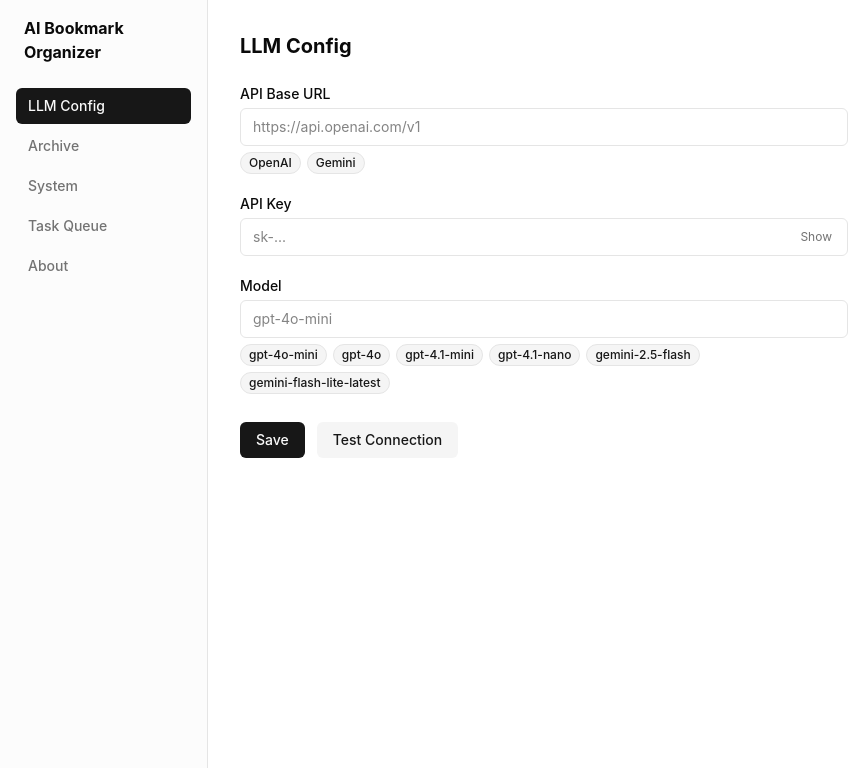
Test: Options Page › shows validation error for invalid URL
Step 1. Type "not-a-url" into the field labelled "API Base URL" → {"x": 544, "y": 127}, box x1=240 y1=108 x2=848 y2=146
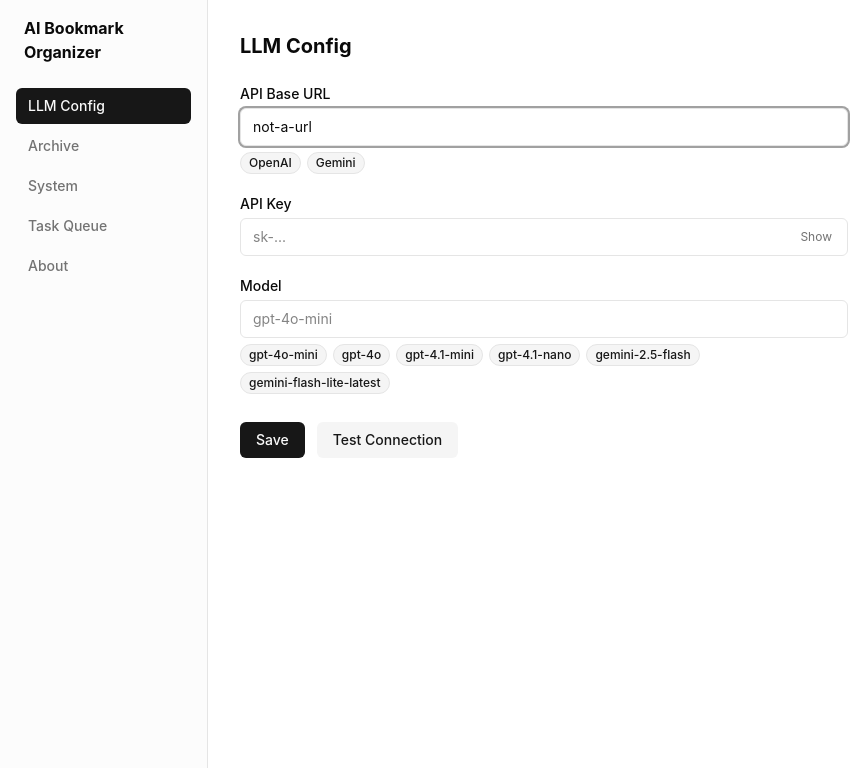
Step 2. Type "sk-test" into the password field labelled "API Key" → {"x": 544, "y": 237}, box x1=240 y1=218 x2=848 y2=256
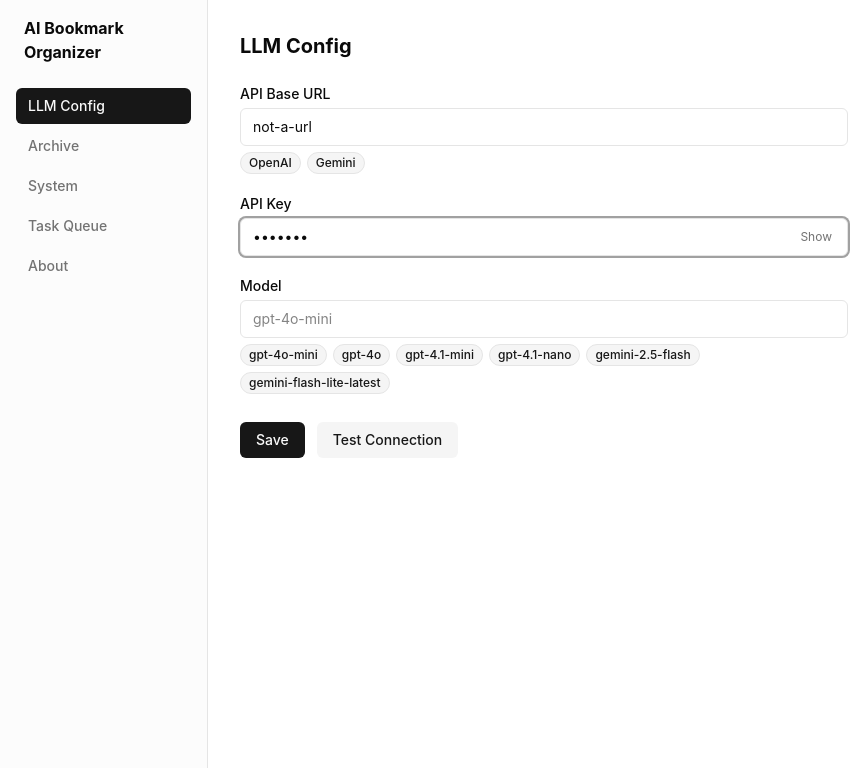
Step 3. Type "gpt-4o" into the field labelled "Model" → {"x": 544, "y": 319}, box x1=240 y1=300 x2=848 y2=338
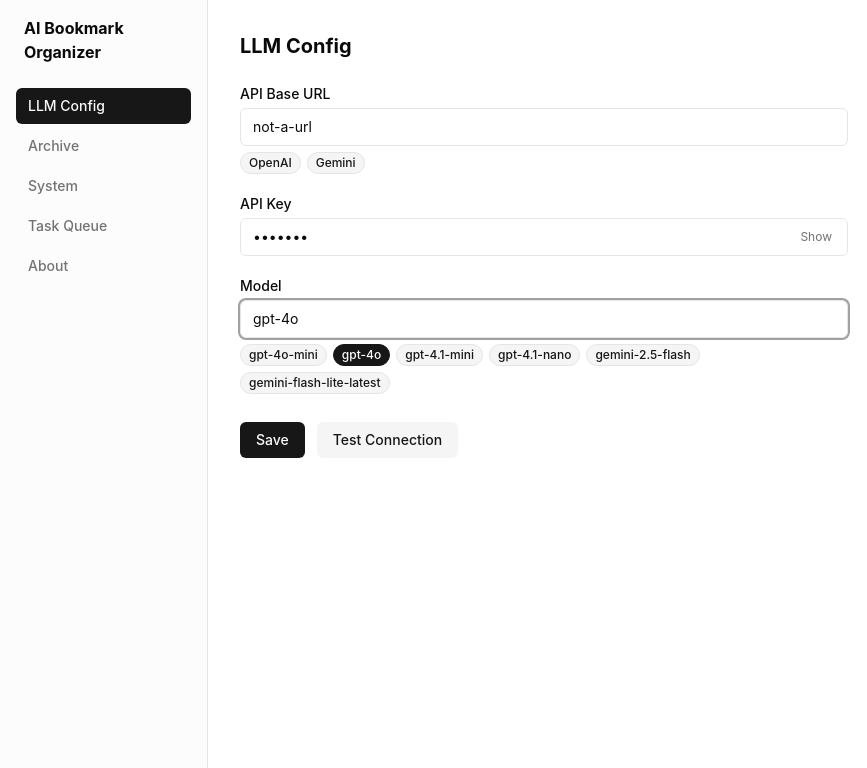
Step 4. Click the button "Save" → {"x": 272, "y": 440}, box x1=240 y1=422 x2=305 y2=458
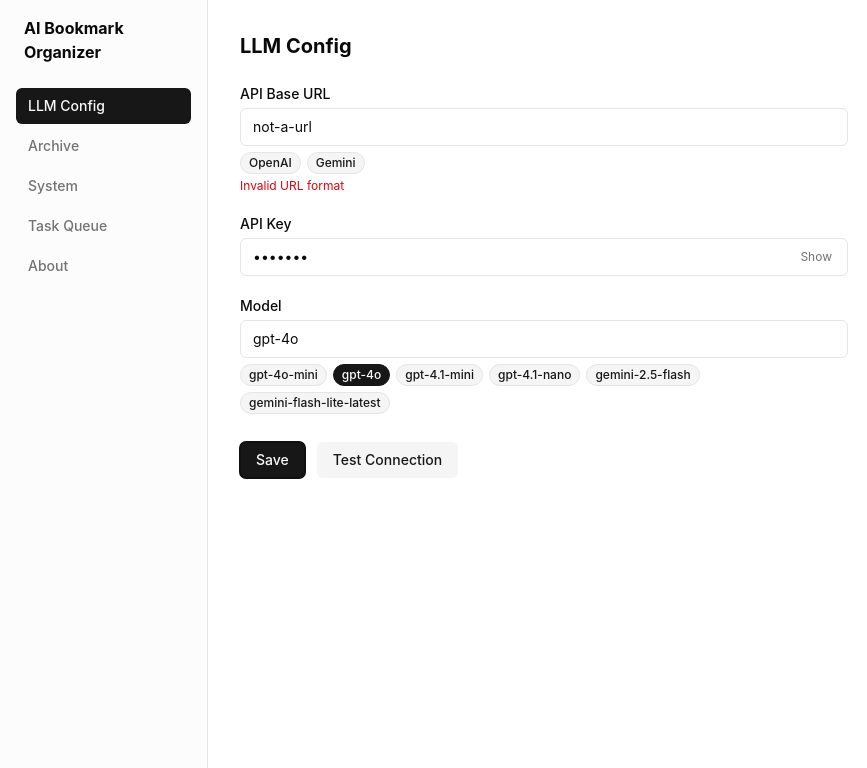
Expected: the text "Invalid URL format" is shown, x1=240 y1=178 x2=344 y2=193
